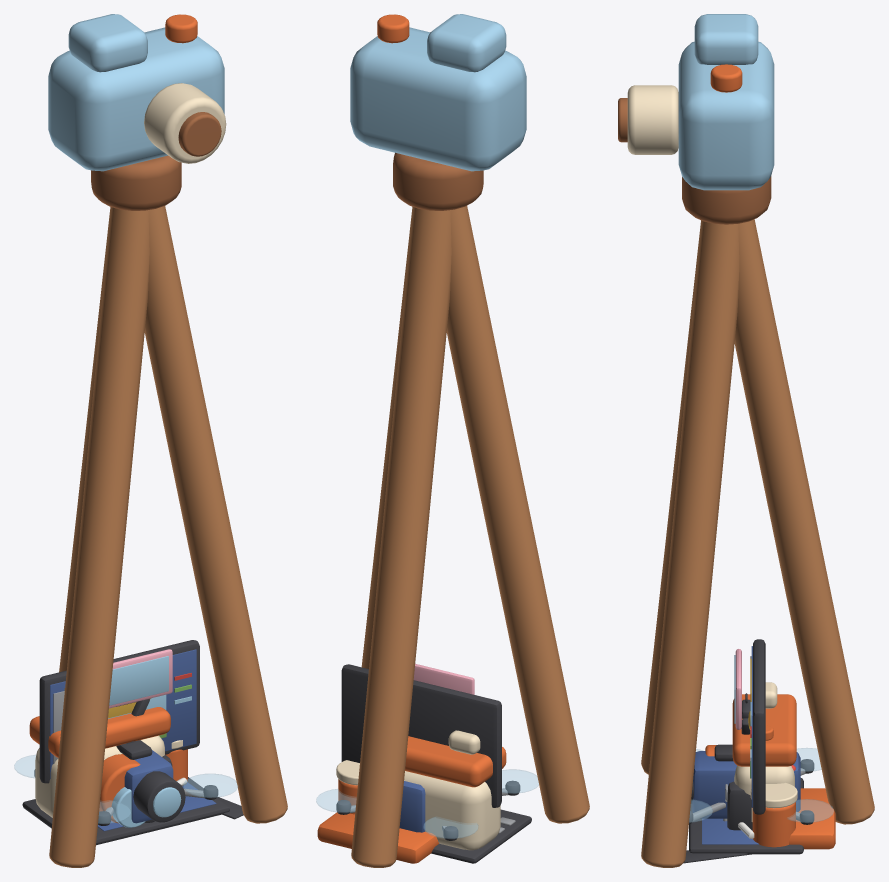
Rendered from interest_photo_v3_8_draco_webp.glb.
The picture shows the model from 3 angles, left to right: view 1: azimuth 30°, elevation 25°; view 2: azimuth 150°, elevation 25°; view 3: azimuth 270°, elevation 25°; orthographic projection. The views are drawn at different scales.
Parts seen in each view (by area): view 1: tripod_camera, tripod_camera_body, tripod_camera_head, tripod_camera_top, tripod_camera_lens, editing_monitor_screen, editing_monitor_frame, film_camera_top, drone, phone_gimbal_screen, pen_tablet_body, tripod_camera_lens_glass (+9 smaller); view 2: tripod_camera, tripod_camera_body, editing_monitor_frame, film_camera_body, tripod_camera_head, tripod_camera_top, film_camera_top, drone, action_cam_case, pen_tablet_body, video_camera_body, phone_gimbal_phone (+2 smaller); view 3: tripod_camera, tripod_camera_body, tripod_camera_lens, tripod_camera_top, tripod_camera_head, film_camera_top, video_camera_body, editing_monitor_frame, action_cam_case, drone, film_camera_film, pen_tablet_body (+6 smaller).
Boxes of the visible parts, x1,y1,x2,y2 form: tripod_camera: [49, 206, 287, 867]; tripod_camera_body: [48, 27, 224, 171]; tripod_camera_head: [91, 155, 181, 210]; tripod_camera_top: [68, 14, 147, 72]; tripod_camera_lens: [144, 83, 226, 163]; editing_monitor_screen: [50, 649, 196, 778]; editing_monitor_frame: [39, 640, 199, 783]; film_camera_top: [29, 707, 170, 757]; drone: [14, 755, 237, 825]; phone_gimbal_screen: [109, 656, 168, 705]; pen_tablet_body: [22, 777, 229, 845]; tripod_camera_lens_glass: [178, 112, 221, 156]; tripod_camera: [351, 206, 589, 867]; tripod_camera_body: [350, 27, 526, 171]; editing_monitor_frame: [341, 664, 501, 807]; film_camera_body: [404, 771, 500, 850]; tripod_camera_head: [393, 152, 483, 210]; tripod_camera_top: [427, 14, 506, 72]; film_camera_top: [405, 736, 506, 787]; drone: [316, 769, 538, 840]; action_cam_case: [317, 812, 438, 863]; pen_tablet_body: [431, 809, 531, 863]; video_camera_body: [399, 781, 425, 832]; phone_gimbal_phone: [413, 664, 474, 694]; tripod_camera: [641, 219, 874, 867]; tripod_camera_body: [678, 41, 774, 190]; tripod_camera_lens: [627, 85, 678, 154]; tripod_camera_top: [694, 14, 758, 64]; tripod_camera_head: [682, 176, 771, 224]; film_camera_top: [732, 694, 796, 766]; video_camera_body: [692, 751, 800, 818]; editing_monitor_frame: [753, 639, 765, 814]; action_cam_case: [789, 788, 835, 849]; drone: [689, 748, 833, 824]; film_camera_film: [752, 802, 795, 847]; pen_tablet_body: [689, 778, 803, 854].
Bounding box in the file's own units: 0.4124 × 1.35 × 0.4026.
